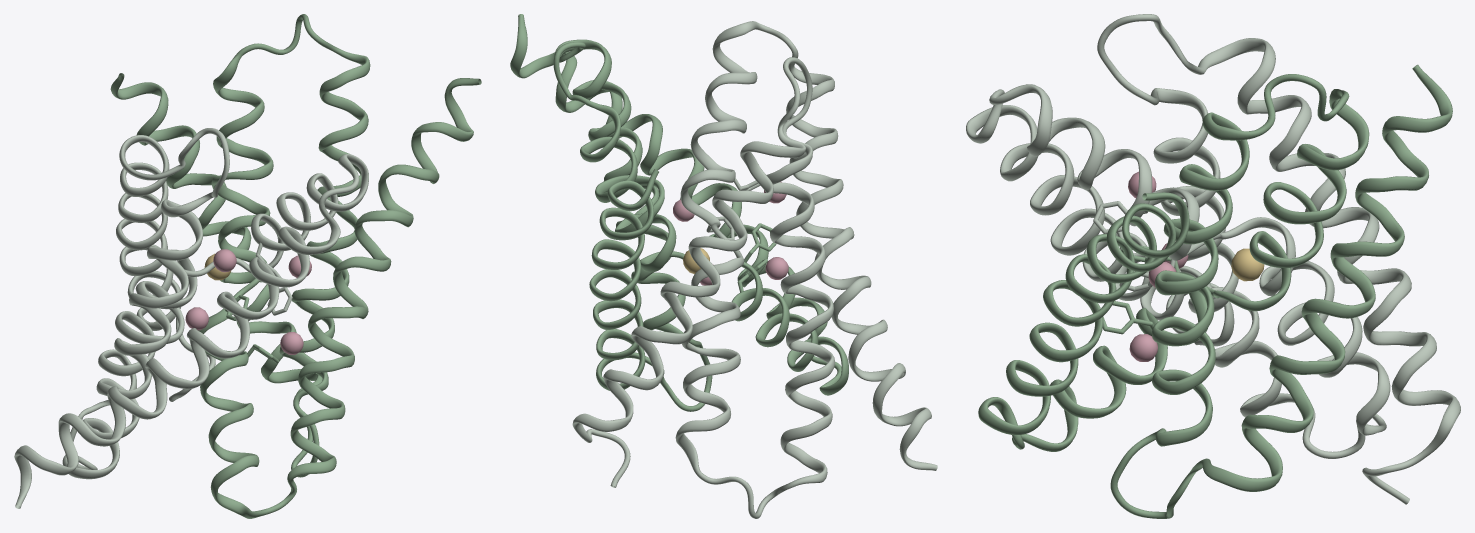
The model's file is fluc-colored.glb.
The picture shows the model from 3 angles, left to right: view 1: azimuth 30°, elevation 25°; view 2: azimuth 150°, elevation 25°; view 3: azimuth 270°, elevation 25°; orthographic projection. The views are drawn at different scales.
Visible parts, largest first — view 1: fluc; view 2: fluc; view 3: fluc.
Boxes of the visible parts, x1,y1,x2,y2 form: fluc: (14,14,481,518); fluc: (510,14,937,518); fluc: (966,14,1460,518).
Size of the model in its own units: 2.96 by 2.64 by 2.33.
